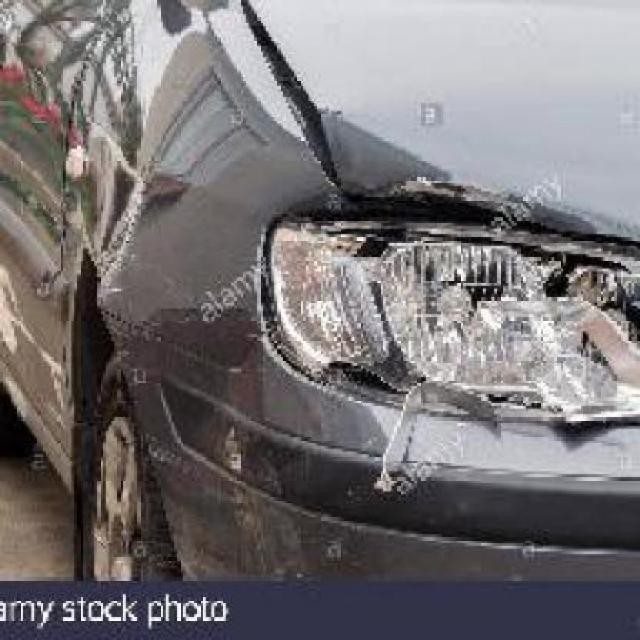damaged-head-light: (260, 211, 637, 420)
